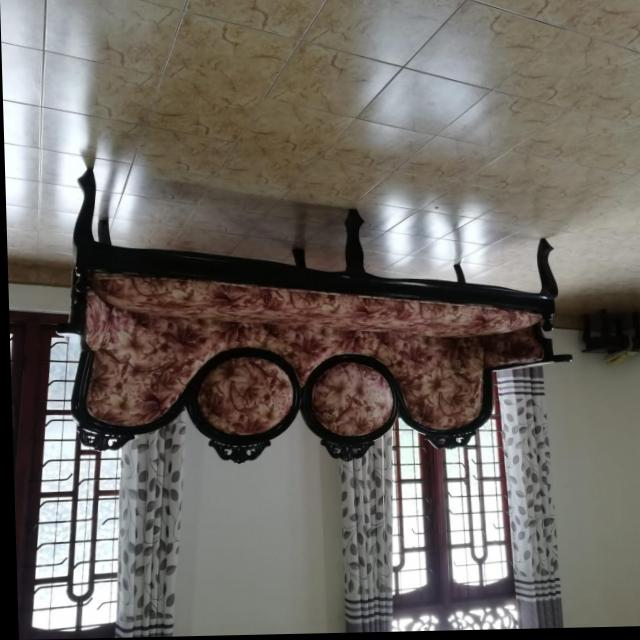Sofa: (53, 159, 572, 469)
